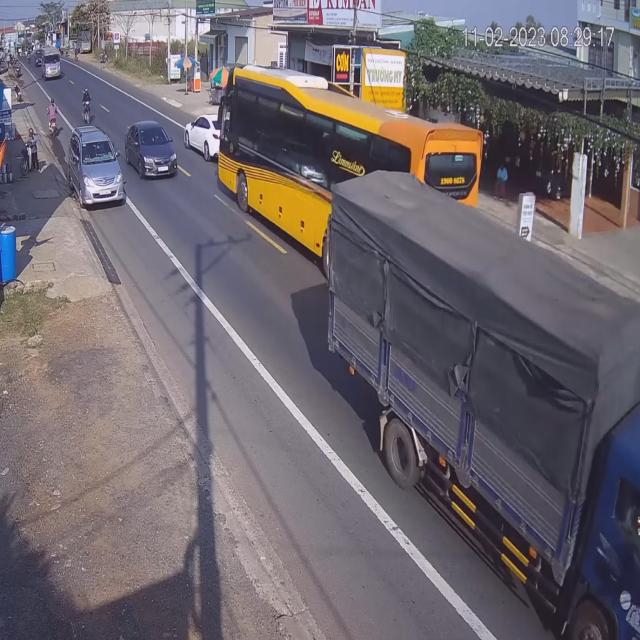bus: (214, 71, 477, 272), (42, 49, 61, 82)
car: (69, 127, 126, 209), (125, 120, 178, 180), (187, 108, 221, 164)
motorbike: (81, 85, 93, 122), (49, 100, 60, 134)
truck: (336, 181, 640, 640)
